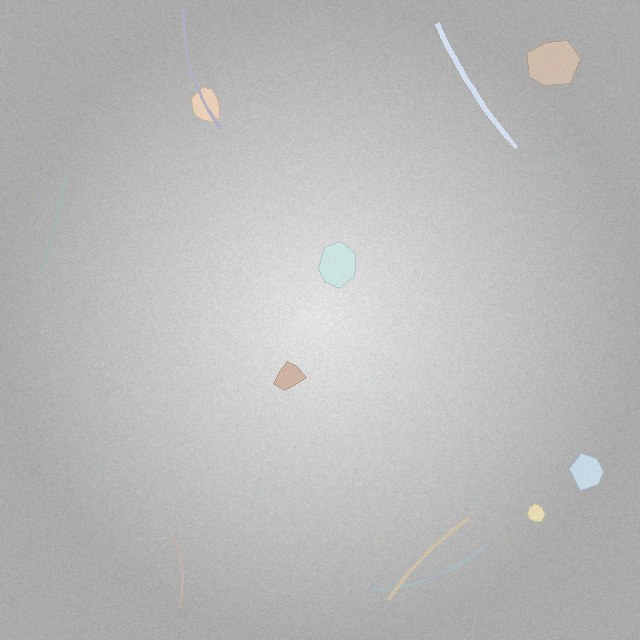fiber: (432, 18, 522, 153), (385, 515, 472, 603), (368, 541, 490, 593), (180, 5, 225, 132), (38, 174, 69, 274), (167, 527, 185, 610)
fragment: (527, 40, 581, 85), (318, 241, 356, 289), (569, 453, 603, 491), (191, 88, 220, 122), (274, 361, 306, 390), (528, 503, 545, 522)
